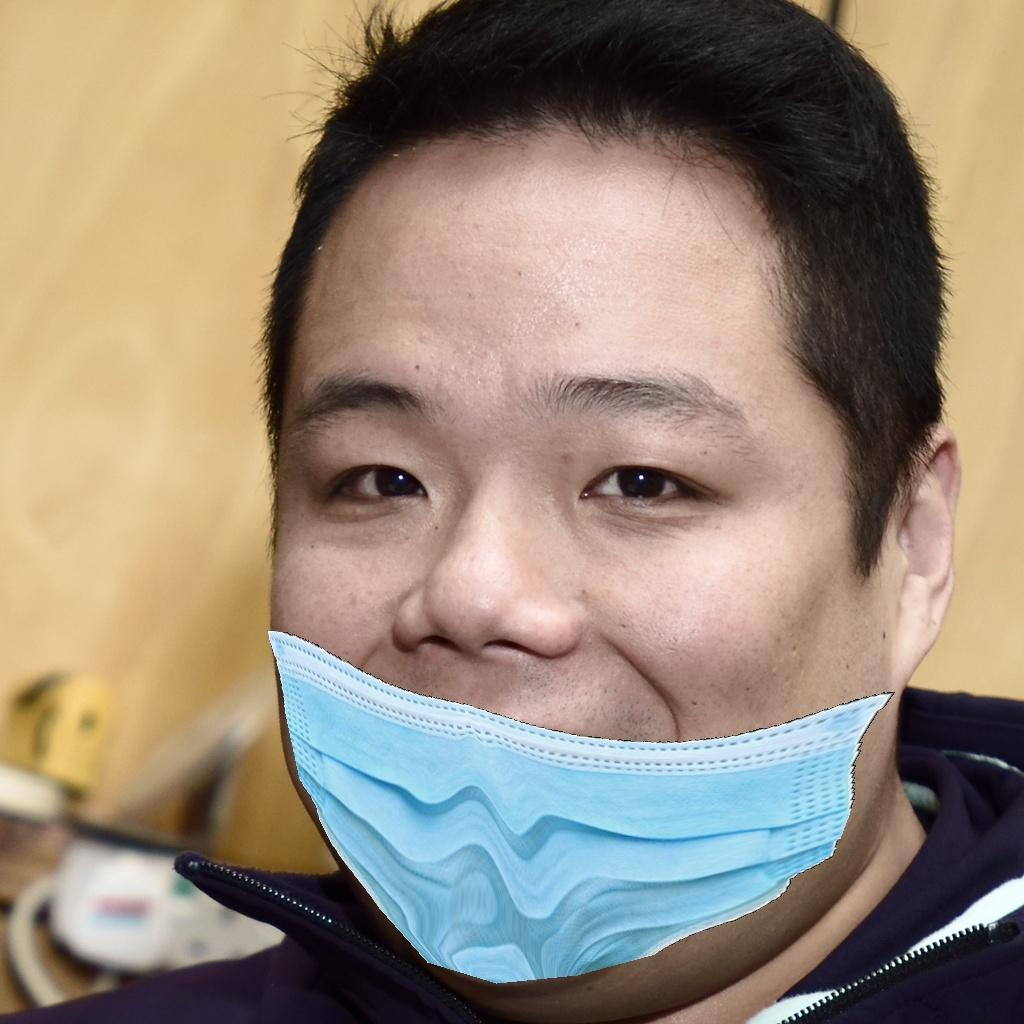Máscara Incorreta: (279, 262, 822, 919)
